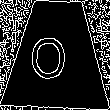O_N: (37, 28, 76, 81)
